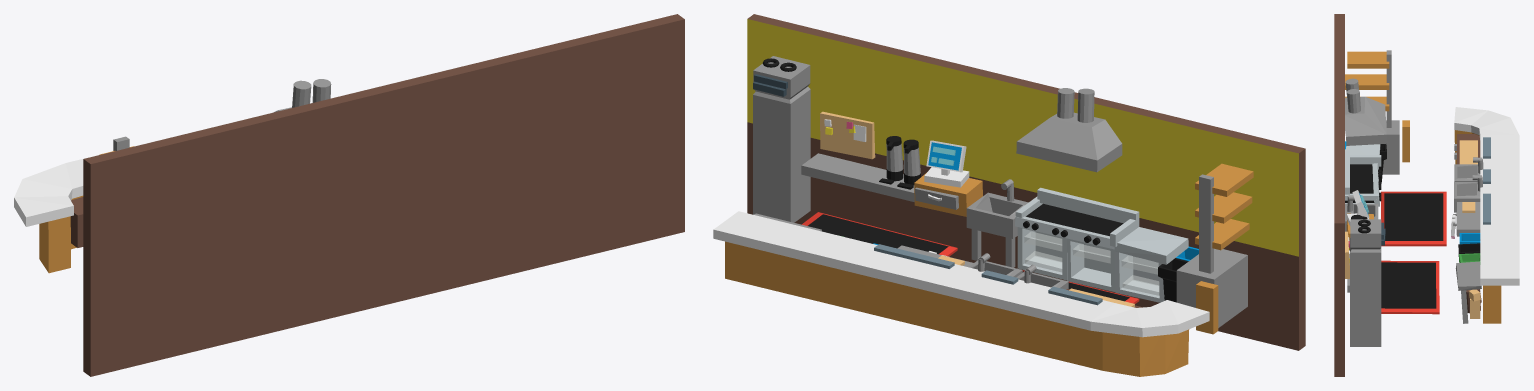
The model's file is LunchCounter.glb.
The picture shows the model from 3 angles, left to right: view 1: azimuth 30°, elevation 25°; view 2: azimuth 150°, elevation 25°; view 3: azimuth 270°, elevation 25°; orthographic projection. The views are drawn at different scales.
Parts seen in each view (by area): view 1: group1358954356, group804660210, group151101300, group1155477327; view 2: group1358954356, group151101300, group804660210, group710157955, group208636820, group1593933401, group1339070809, group1315309911, group2081224890, group2131526348, group892481591, group1791783657 (+25 smaller); view 3: group804660210, group1358954356, group710157955, group350602514, group1315309911, group208636820, group151101300, group1593933401, group1706430347, group1723768818, group550136212, group2052666072 (+23 smaller).
Boxes of the visible parts, x1=… form: group1358954356: x1=83, y1=14, x2=684, y2=376; group804660210: x1=14, y1=64, x2=471, y2=226; group151101300: x1=39, y1=195, x2=83, y2=273; group1155477327: x1=70, y1=197, x2=83, y2=247; group1358954356: x1=747, y1=14, x2=1305, y2=350; group151101300: x1=725, y1=241, x2=1189, y2=376; group804660210: x1=713, y1=211, x2=1209, y2=337; group710157955: x1=753, y1=56, x2=810, y2=222; group208636820: x1=1016, y1=112, x2=1122, y2=172; group1593933401: x1=1176, y1=248, x2=1247, y2=327; group1339070809: x1=801, y1=153, x2=914, y2=201; group1315309911: x1=802, y1=212, x2=957, y2=256; group2081224890: x1=1017, y1=227, x2=1067, y2=280; group2131526348: x1=1067, y1=238, x2=1115, y2=291; group892481591: x1=1114, y1=250, x2=1164, y2=302; group1791783657: x1=966, y1=192, x2=1028, y2=238; group804660210: x1=1454, y1=107, x2=1519, y2=285; group1358954356: x1=1334, y1=14, x2=1344, y2=376; group710157955: x1=1350, y1=219, x2=1381, y2=346; group350602514: x1=1381, y1=191, x2=1446, y2=246; group1315309911: x1=1381, y1=260, x2=1439, y2=314; group208636820: x1=1345, y1=96, x2=1387, y2=145; group151101300: x1=1454, y1=130, x2=1501, y2=323; group1593933401: x1=1382, y1=120, x2=1399, y2=174; group1706430347: x1=1347, y1=51, x2=1389, y2=68; group1723768818: x1=1345, y1=164, x2=1374, y2=202; group550136212: x1=1455, y1=261, x2=1481, y2=290; group2052666072: x1=1457, y1=202, x2=1480, y2=236.
Size of the model in its own units: 1.9 by 0.7003 by 0.71.
